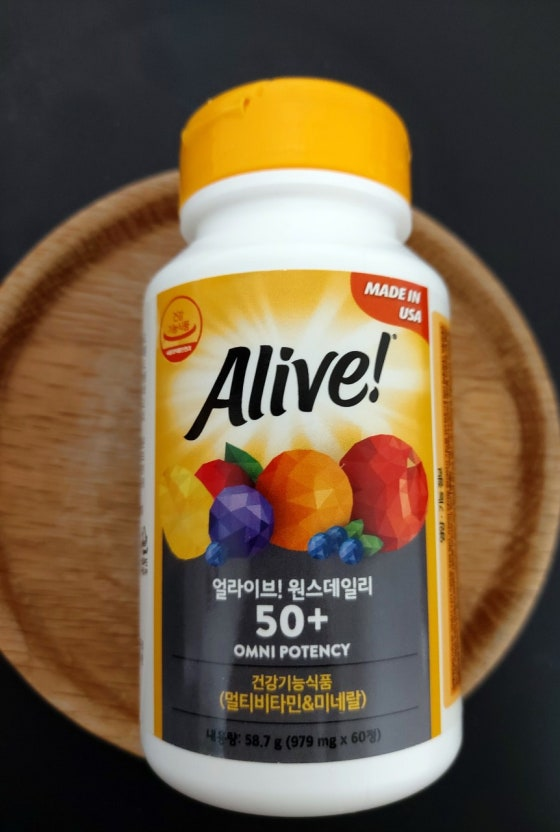supplement_label: (138, 265, 466, 770)
